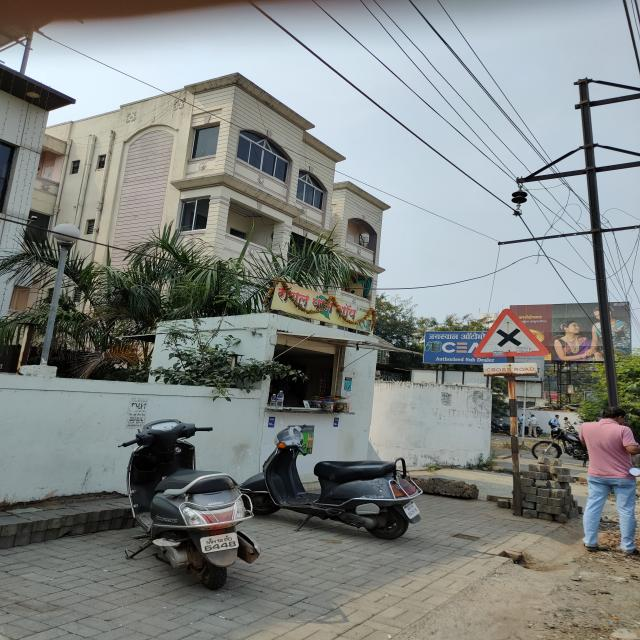CROSS_ROAD: (469, 306, 553, 360)
